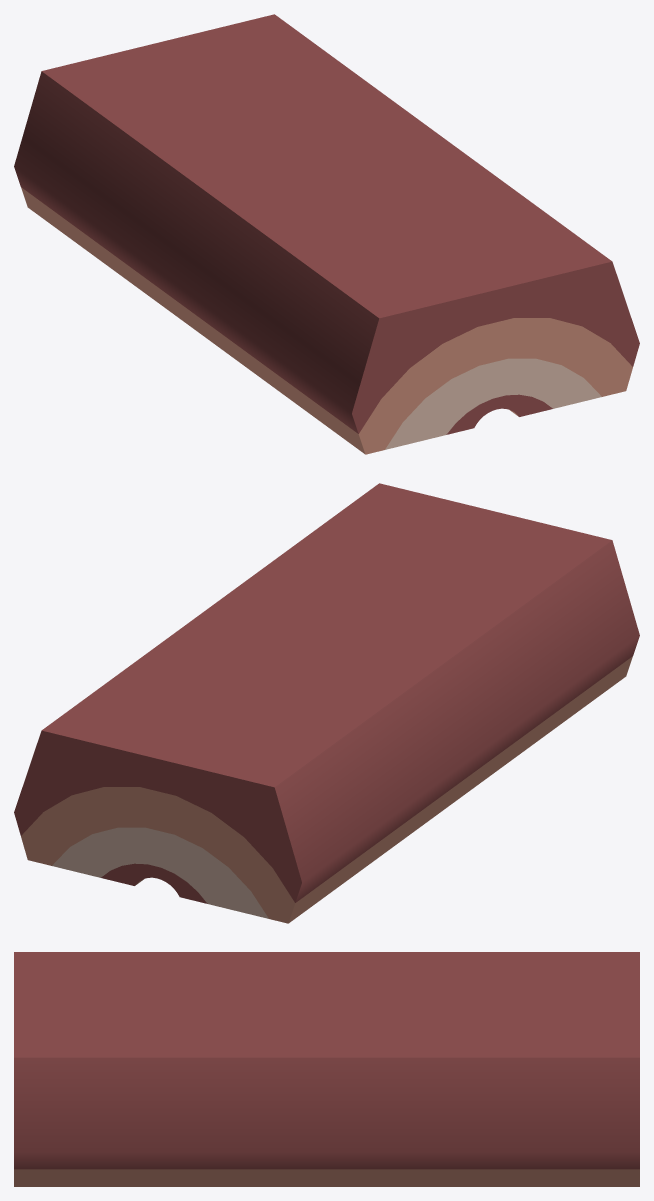
File: ResourceWood.fbx
3 renders of one model, top to bottom at view 1: azimuth 30°, elevation 25°; view 2: azimuth 150°, elevation 25°; view 3: azimuth 270°, elevation 25°, orthographic. The views are drawn at different scales.
Parts seen in each view (by area): view 1: Model; view 2: Model; view 3: Model.
Part boxes in pixels (x1=…): Model: x1=14, y1=14, x2=639, y2=454; Model: x1=14, y1=483, x2=639, y2=923; Model: x1=14, y1=952, x2=639, y2=1186.
Bounding box in the file's own units: 40.68 × 17.93 × 82.6.
